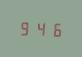four: (33, 19, 46, 37)
nine: (18, 19, 31, 36)
six: (47, 20, 60, 37)
